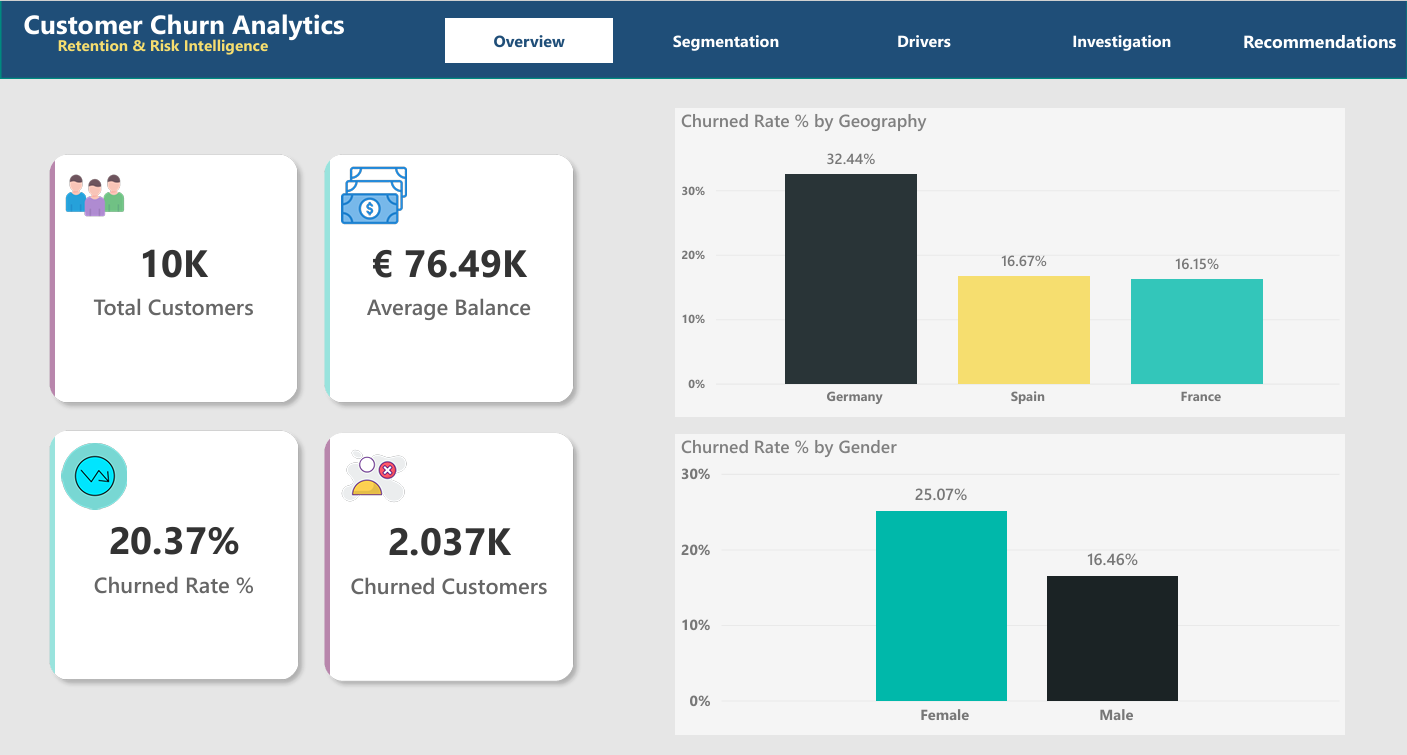

Layout of this report page (visuals, bound fields, positions):
{"tool":"powerbi","page":{"name":"Customer Overview","canvas":[1280,720],"ordinal":0},"visuals":[{"type":"cardVisual","fields":{"Data":["FactCustomer.Total Customers"]},"box":[33.1,161.5,250,250],"z":0},{"type":"cardVisual","fields":{"Data":["FactCustomer.Churned Rate %"]},"box":[33.4,411.8,250,250],"z":1000},{"type":"cardVisual","fields":{"Data":["FactCustomer.Average Balance"]},"box":[283,161.5,250.9,250],"z":2000},{"type":"cardVisual","fields":{"Data":["FactCustomer.Churned Customers"]},"box":[283,414.3,250.9,250],"z":3000},{"type":"image","box":[50.6,172.2,70,74.9],"z":4000},{"type":"image","box":[305.4,172.2,70,74.9],"z":5000},{"type":"image","box":[50.6,427,70,74.9],"z":6000},{"type":"image","box":[305.4,427,70,74.9],"z":7000},{"type":"clusteredColumnChart","fields":{"Category":["FactCustomer.Geography"],"Y":["FactCustomer.Churned Rate %"]},"box":[613.7,131.3,608.9,280.1],"z":8000},{"type":"columnChart","fields":{"Category":["FactCustomer.Gender"],"Y":["FactCustomer.Churned Rate %"]},"box":[613.7,427,608.9,273.3],"z":9000},{"type":"shape","box":[0,0,1280,104.1],"z":10000},{"type":"textbox","box":[16,32,304,56],"z":11000},{"type":"textbox","box":[46.5,59.4,212.8,44.5],"z":12000},{"type":"actionButton","box":[584,49.5,152.4,39.6],"z":13000},{"type":"actionButton","box":[764,49.5,152.4,39.6],"z":14000},{"type":"actionButton","box":[944,49.5,152.4,39.6],"z":15000},{"type":"actionButton","box":[1124,49.5,152.4,39.6],"z":16000},{"type":"actionButton","box":[404.8,49.5,152.4,39.6],"z":17000}]}

Visuals, with their boxes on the page's 1280x720 design canvas (x1, y1, x2, y2). These are canvas units, not pixel positions in the 1407x755 screenshot, which may show the page scaled, cropped or inside an application window:
cardVisual - FactCustomer.Total Customers: box=[33, 162, 283, 412]
cardVisual - FactCustomer.Churned Rate %: box=[33, 412, 283, 662]
cardVisual - FactCustomer.Average Balance: box=[283, 162, 534, 412]
cardVisual - FactCustomer.Churned Customers: box=[283, 414, 534, 664]
image: box=[51, 172, 121, 247]
image: box=[305, 172, 375, 247]
image: box=[51, 427, 121, 502]
image: box=[305, 427, 375, 502]
clusteredColumnChart - FactCustomer.Geography x FactCustomer.Churned Rate %: box=[614, 131, 1223, 411]
columnChart - FactCustomer.Gender x FactCustomer.Churned Rate %: box=[614, 427, 1223, 700]
shape: box=[0, 0, 1280, 104]
textbox: box=[16, 32, 320, 88]
textbox: box=[46, 59, 259, 104]
actionButton: box=[584, 50, 736, 89]
actionButton: box=[764, 50, 916, 89]
actionButton: box=[944, 50, 1096, 89]
actionButton: box=[1124, 50, 1276, 89]
actionButton: box=[405, 50, 557, 89]
